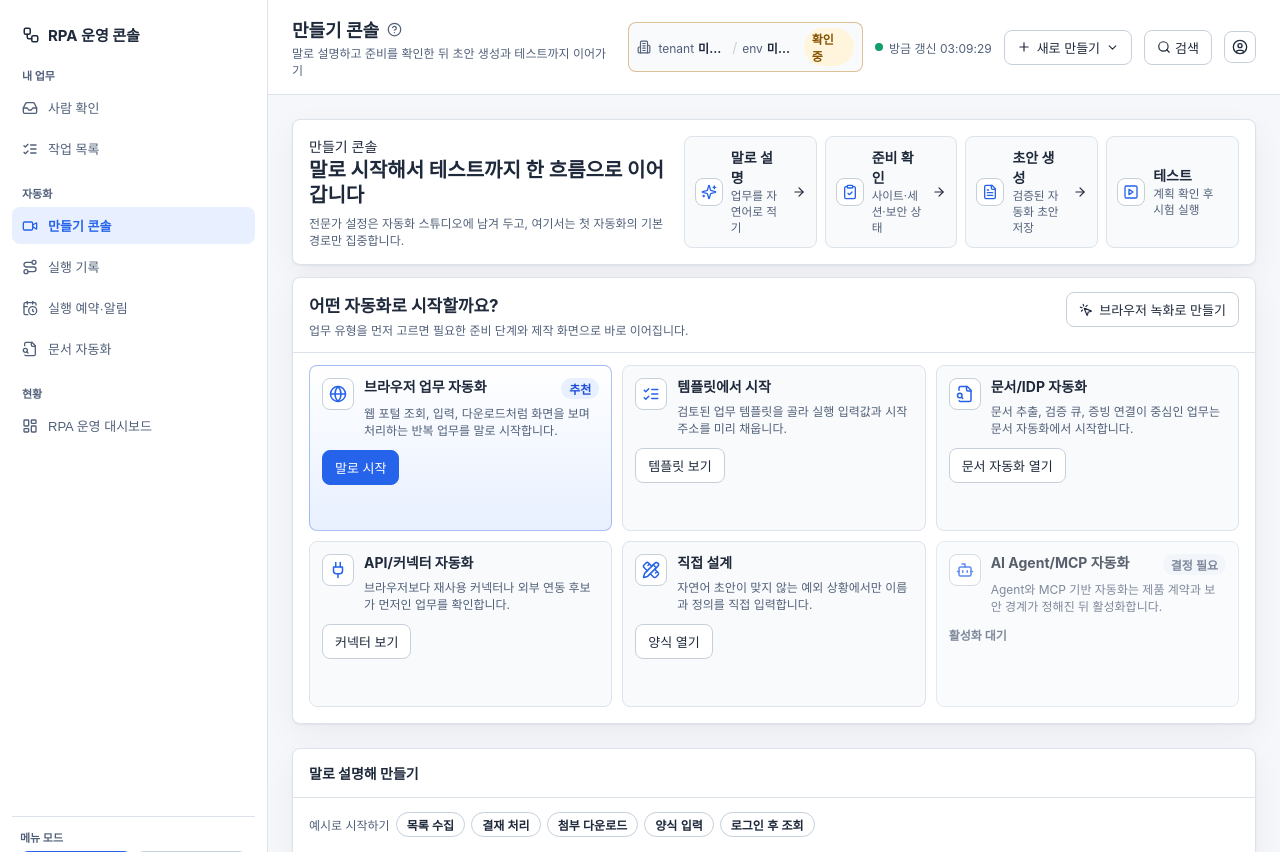
Test: 커맨드 팔레트(Ctrl/⌘+K) — 전역 검색·이동 › 검색 버튼으로 열고 자동화 이름 검색
The width and height of the screenshot is (1280, 852).
Click the button "검색".
click(1178, 47)  # box [1144, 30, 1212, 64]
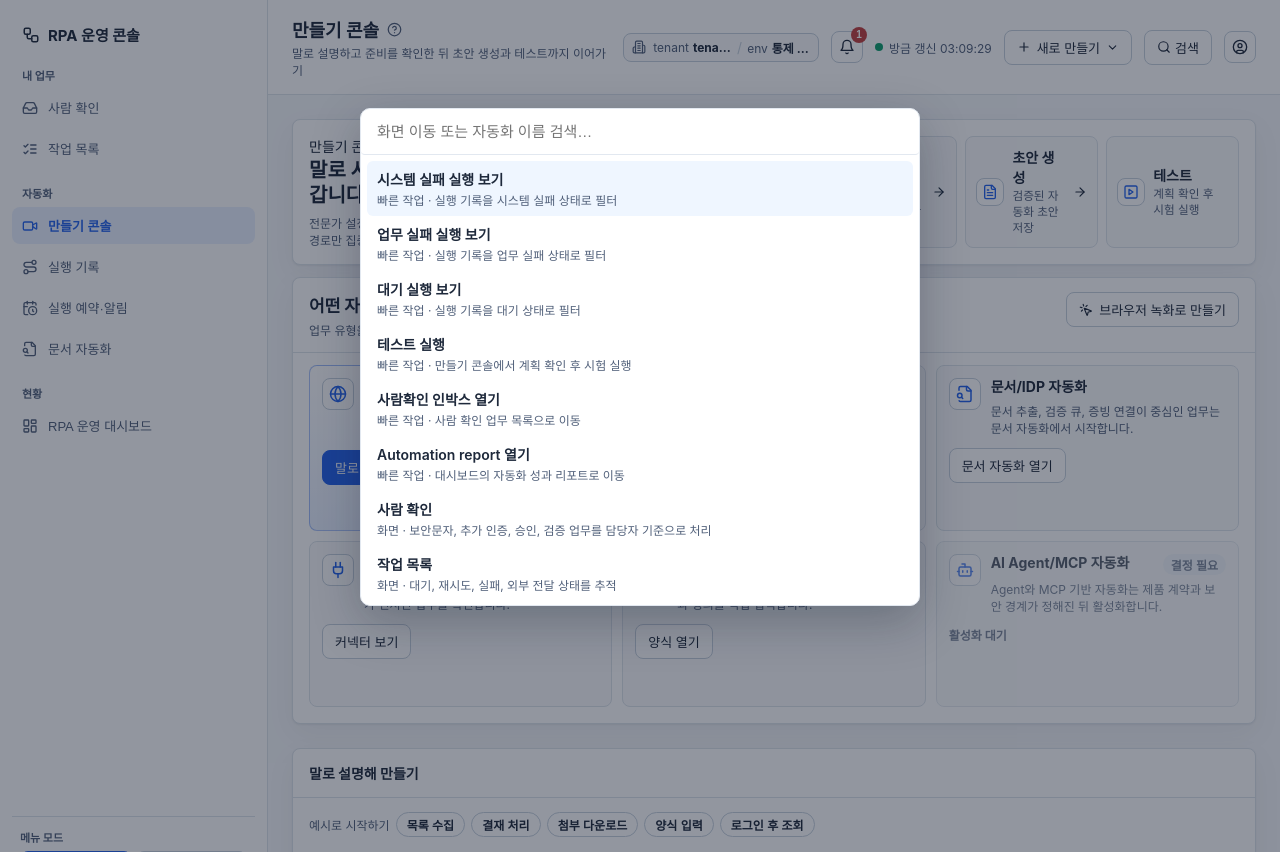
Type "월말" into the dropdown.
click(640, 132); type("월말")  # box [361, 109, 919, 155]
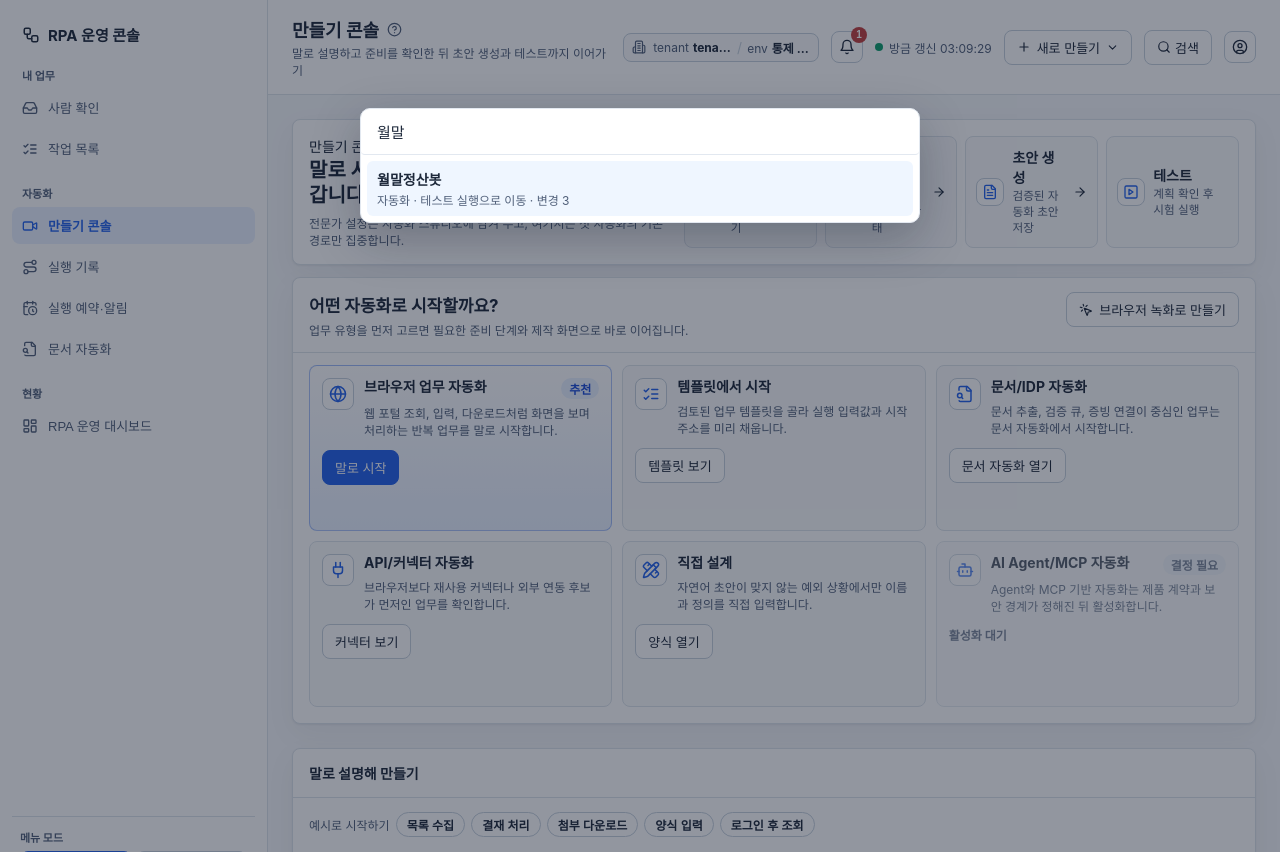
expect the text "월말정산봇" is shown: met, box [377, 171, 441, 188]
